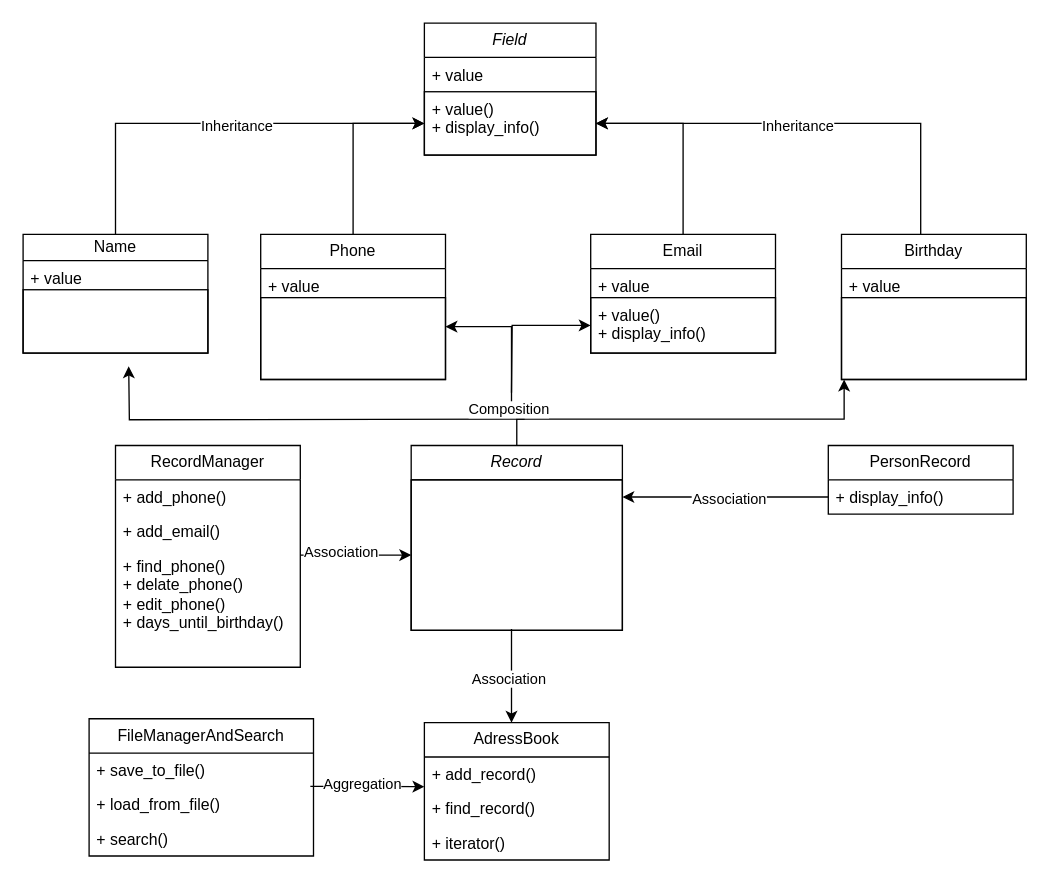
Some shapes in this 1049 by 887 pixel diagram are drawn without their labels. Each missing label, with the centre of its shape:
+ display_info() + value(): (115,320)
+ display_info() + value() - is_valid_phone(): (352,338)
+ name + phones + emails + birthday _______________________ + display_info(): (516,554)
+ value() + display_info() - Is_valid_date(): (933,338)
